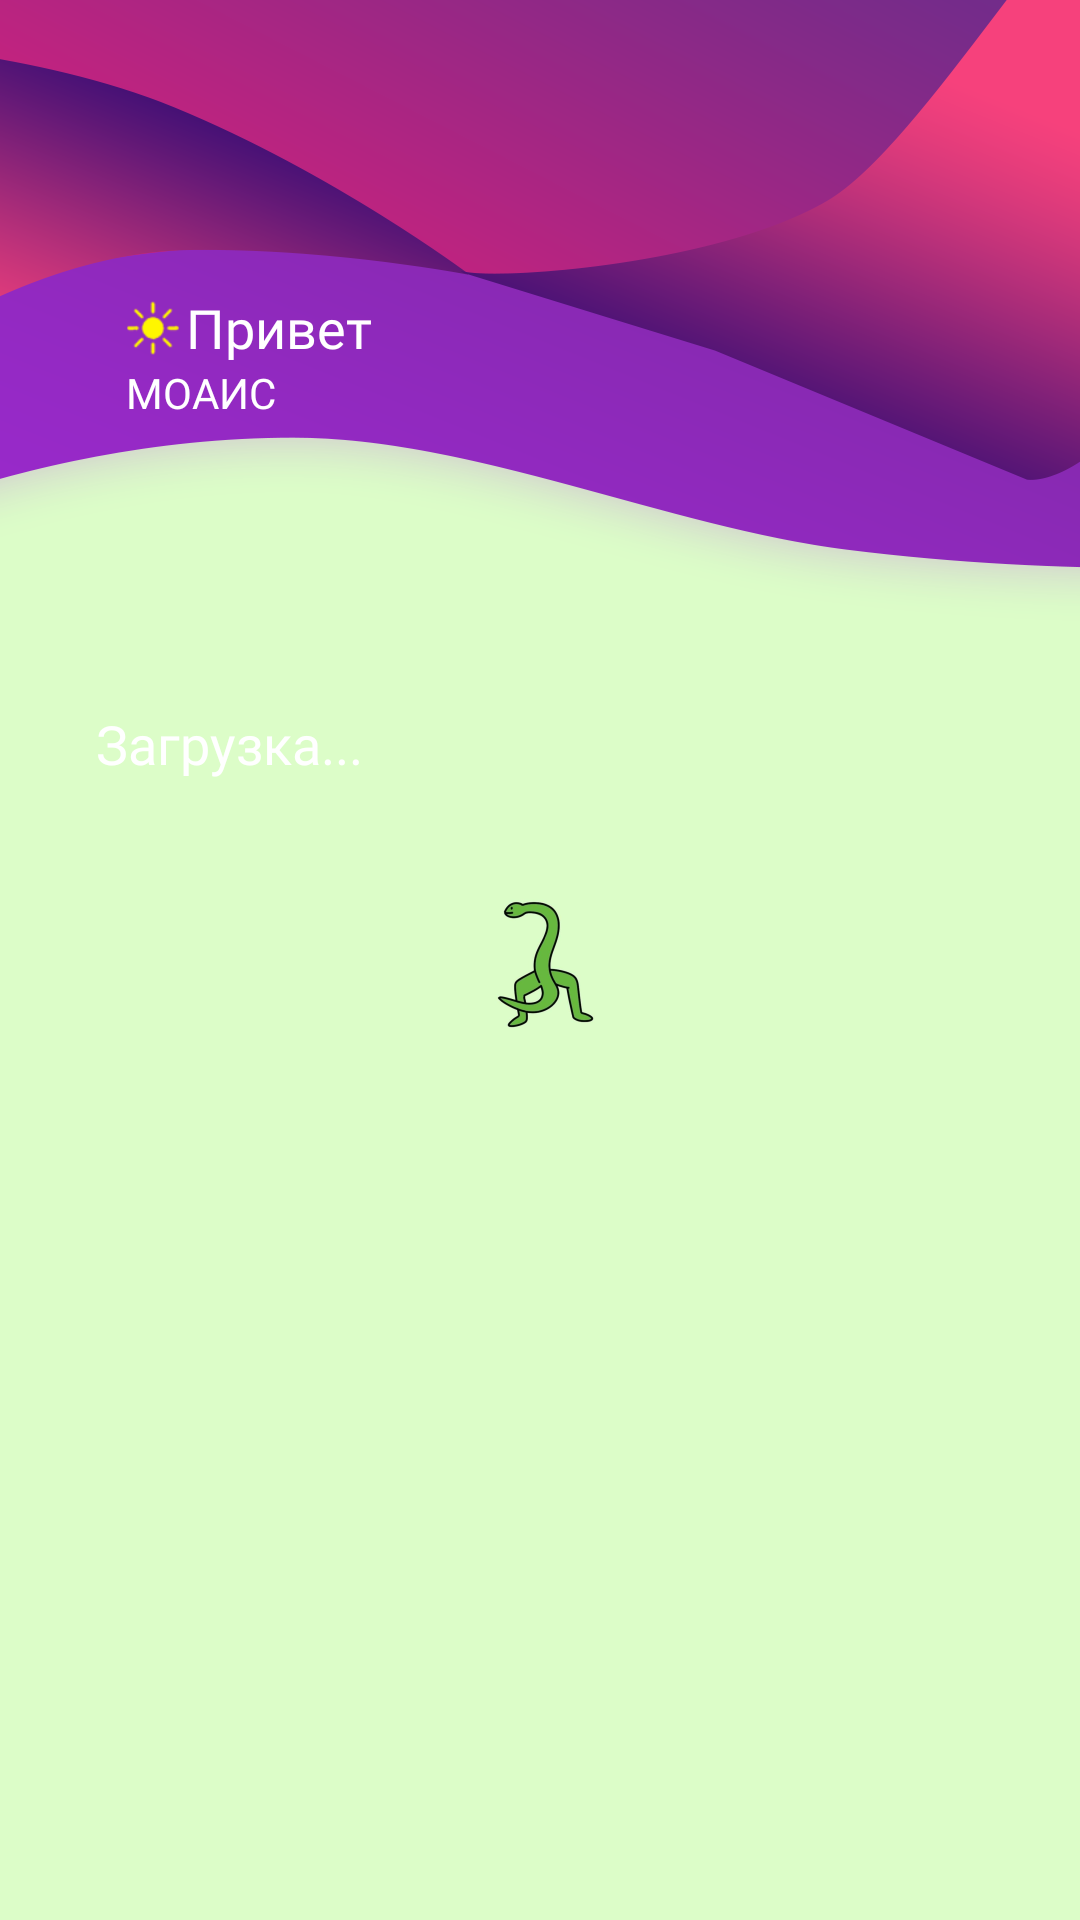

Named icons in this screenshot (1080px×1920px) and their centers, (x,y):
solnyshko: (153,328)
